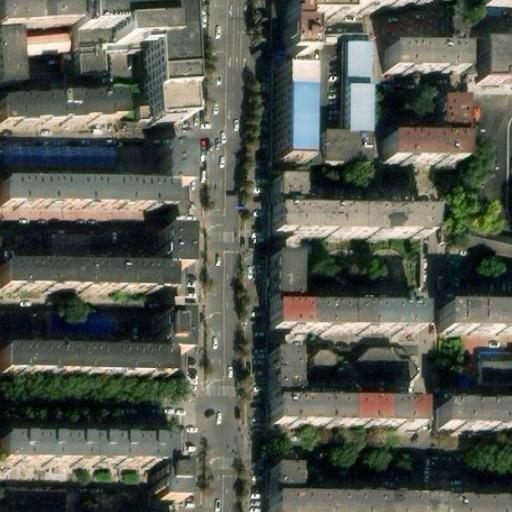building: (0, 178, 168, 209), (267, 304, 416, 338), (269, 211, 429, 241), (264, 401, 412, 433), (0, 0, 67, 69), (319, 85, 368, 167), (0, 93, 121, 124), (275, 73, 305, 167), (1, 142, 115, 165), (266, 497, 416, 512), (386, 40, 462, 69), (439, 309, 512, 338), (437, 407, 512, 435), (387, 134, 461, 162), (39, 304, 111, 332), (20, 53, 66, 85), (341, 34, 369, 86), (2, 490, 68, 512), (265, 350, 293, 401), (267, 253, 294, 305), (154, 314, 182, 359), (158, 145, 186, 189), (483, 38, 512, 80), (158, 229, 185, 271), (435, 99, 462, 135), (478, 357, 512, 385), (153, 469, 179, 505), (266, 463, 292, 498), (331, 362, 363, 390), (270, 179, 295, 211), (436, 502, 512, 512), (343, 0, 402, 11), (308, 354, 333, 378)
